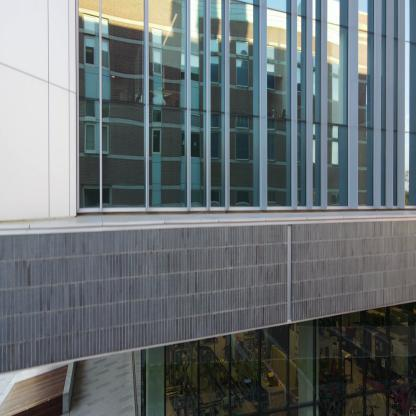Fitts- Woolard: (0, 1, 415, 387)
